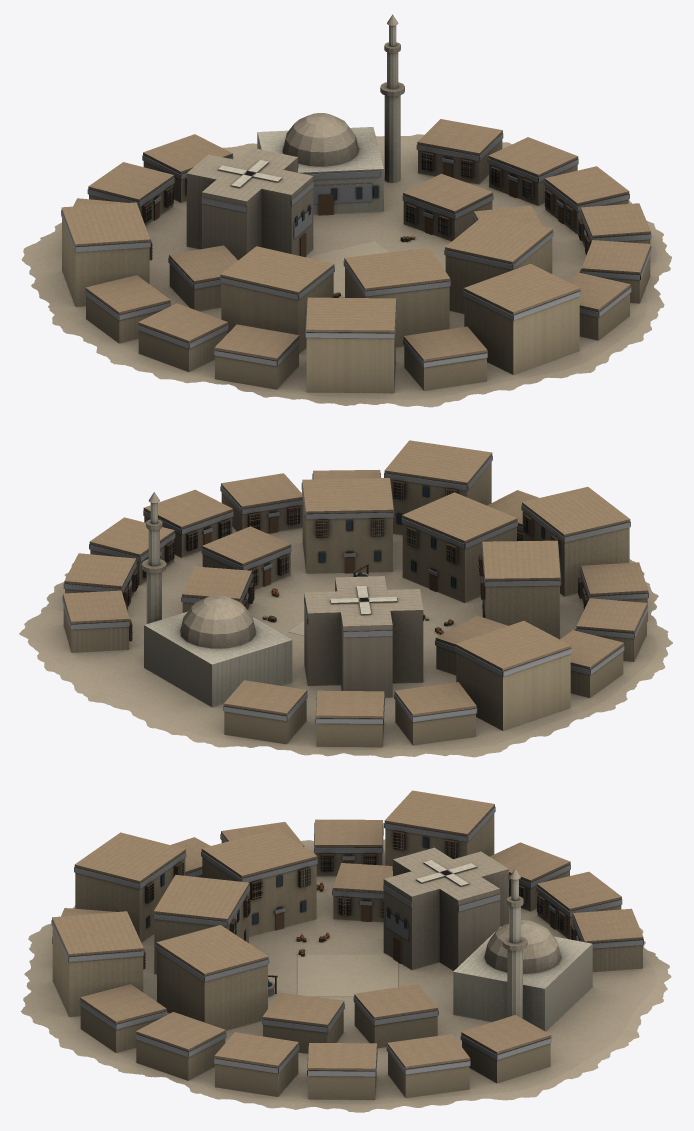
Rendered from kingdoms-town-big-b-nile.glb.
3 renders of one model, top to bottom at view 1: azimuth 30°, elevation 25°; view 2: azimuth 150°, elevation 25°; view 3: azimuth 270°, elevation 25°, orthographic.
Parts seen in each view (by area): view 1: LOD0; view 2: LOD0; view 3: LOD0.
Boxes of the visible parts, x1,y1,x2,y2 form: LOD0: (21, 14, 671, 407); LOD0: (19, 440, 672, 757); LOD0: (20, 790, 671, 1112).
Size of what is drawn, in the model's own units: 7.9 by 2.22 by 7.96.
3 materials, 3 textured.
